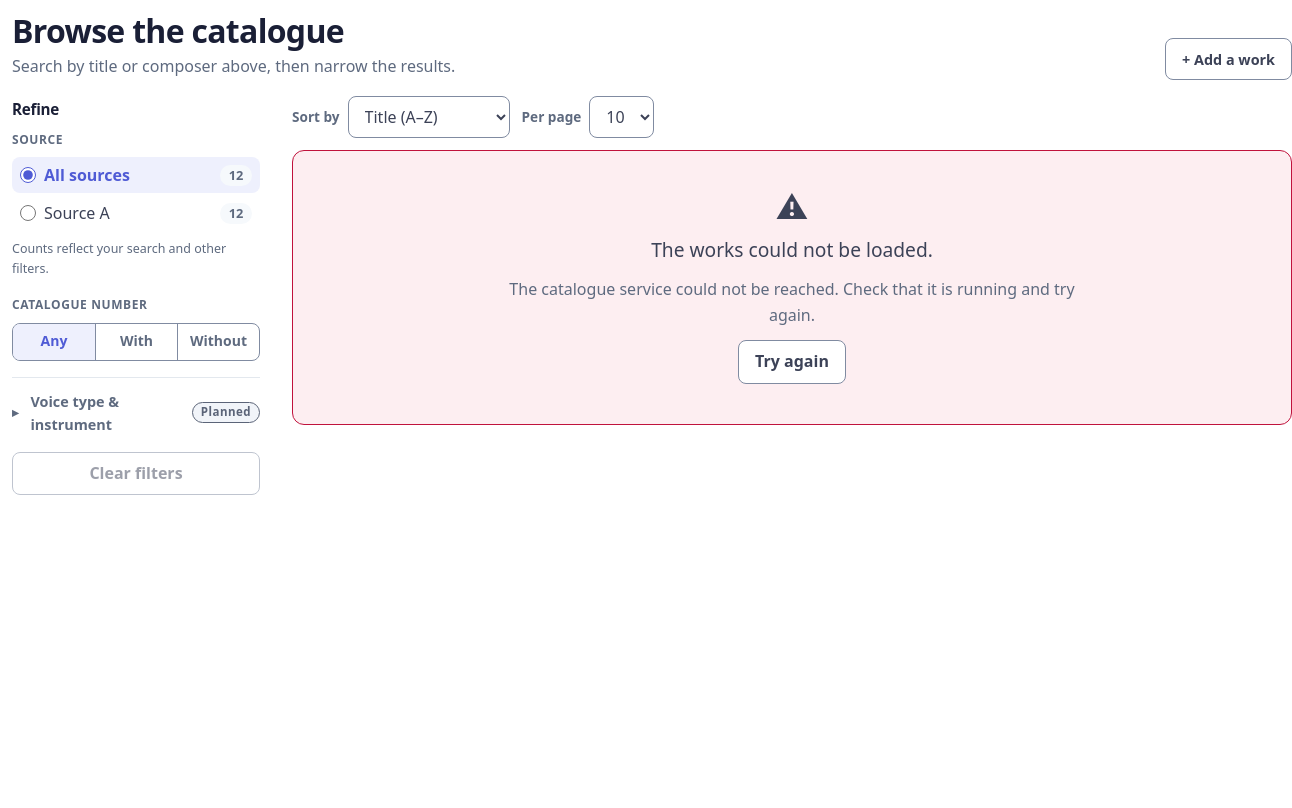
Test: WorkCataloguePage › shows an error state with a retry button when the API fails
Expected: the message is shown, [292,150,1291,425]
Expected: the text "The works could not be loaded." is shown, [651,235,933,265]
Click the button "Try again" at (792, 362), box [738,340,846,384]
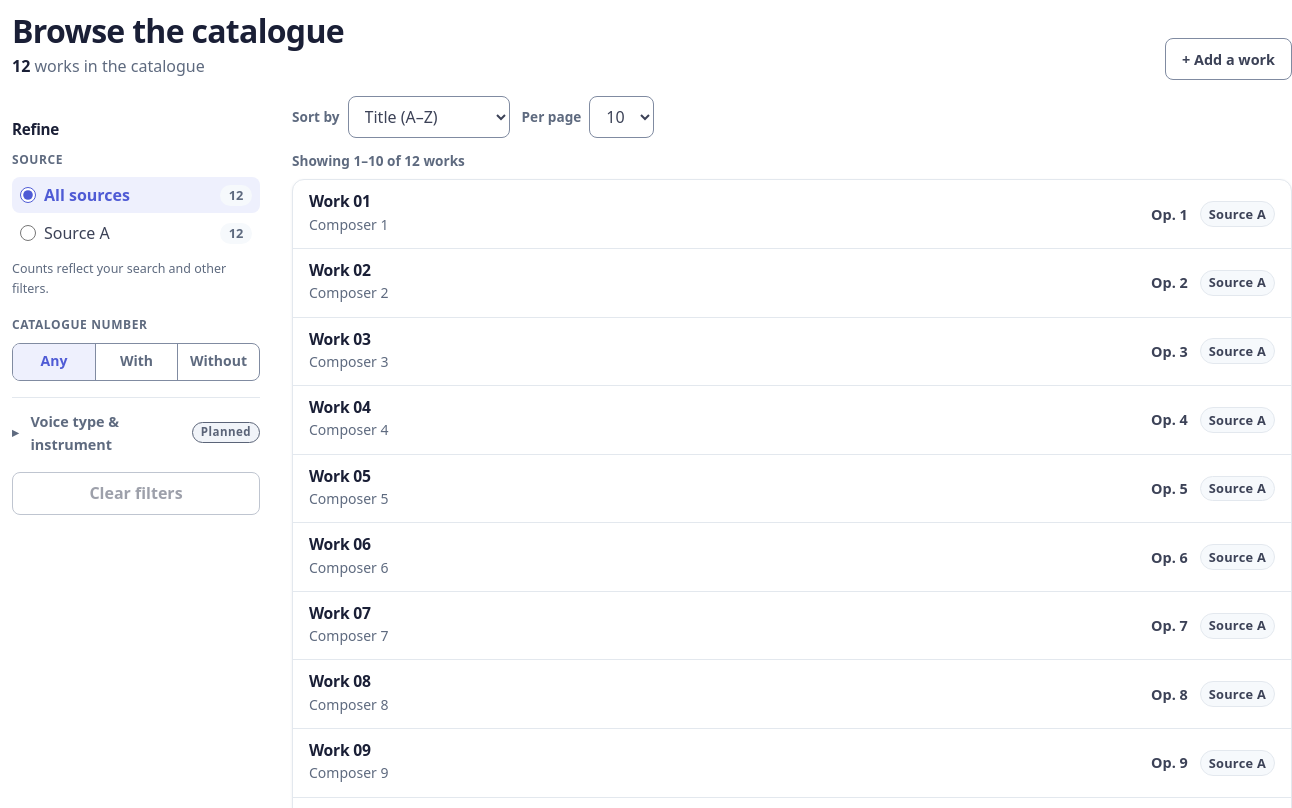
Result: the text "Showing 1–10 of 12 works" is shown at [292,150,465,171]
